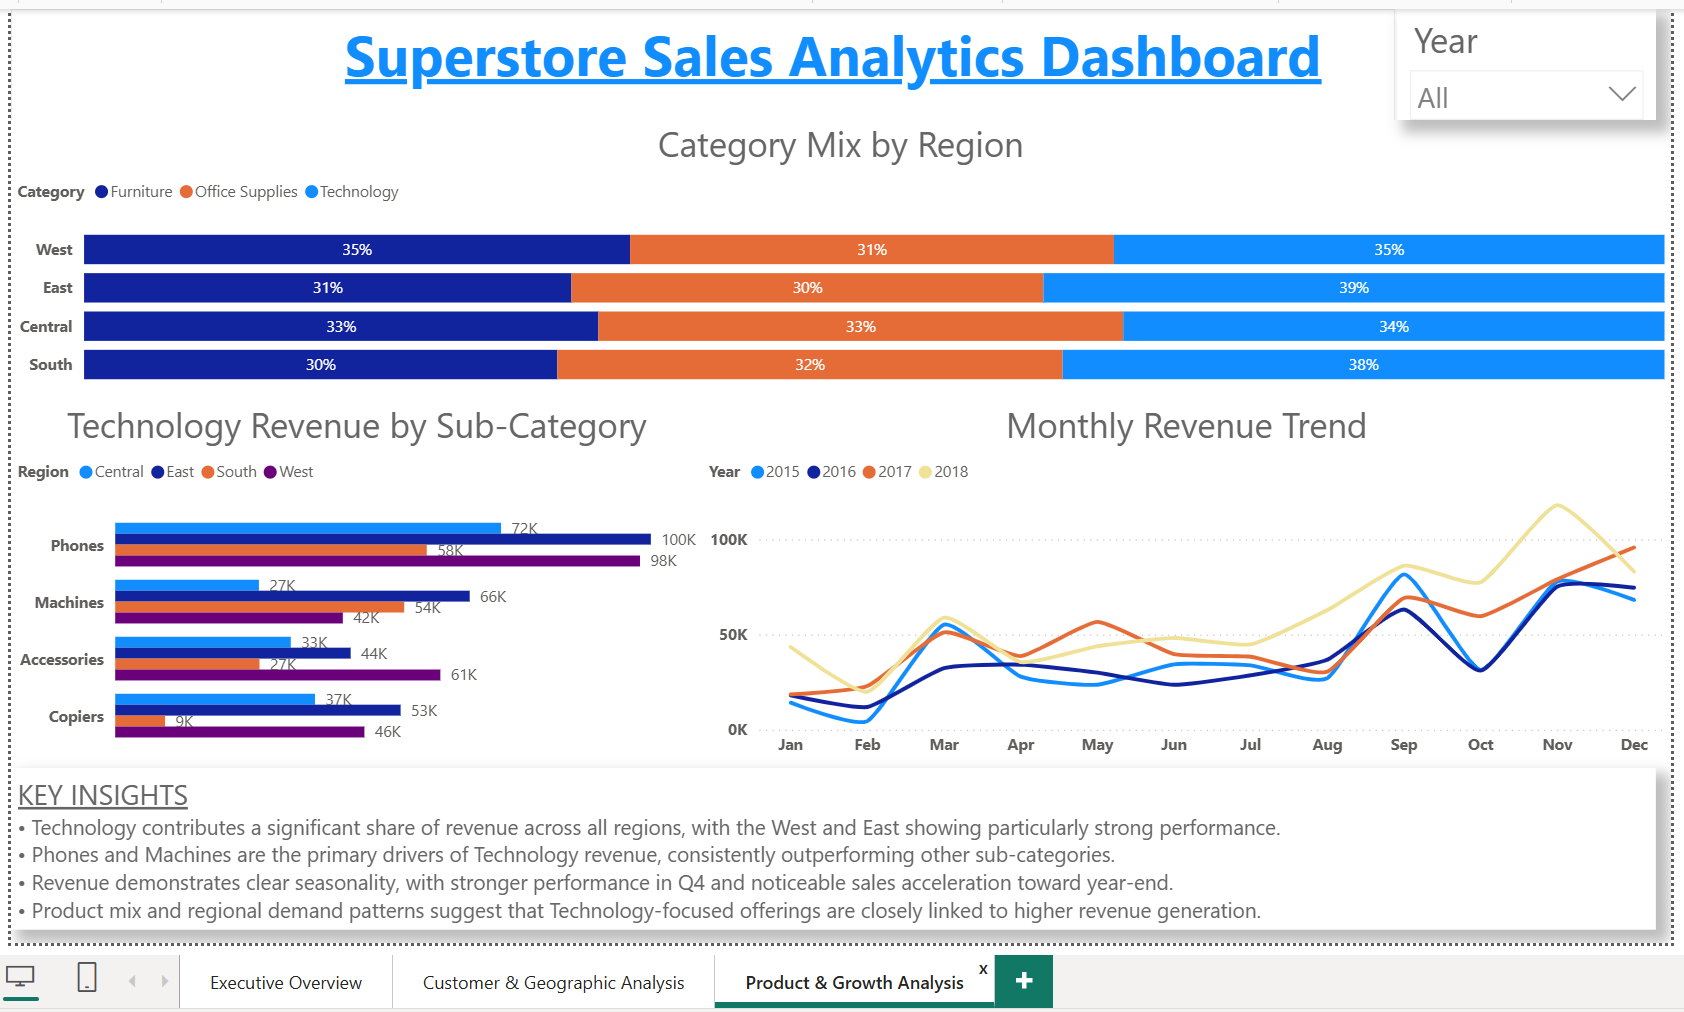

The page's visual inventory and layout, read from the dashboard file:
{"tool":"powerbi","page":{"name":"Product & Growth Analysis","canvas":[1280,720],"ordinal":2},"visuals":[{"type":"textbox","box":[0,0,1067.7,88.8],"z":0},{"type":"hundredPercentStackedBarChart","title":"Category Mix by Region","fields":{"Category":["train.Region"],"Y":["train.Total Revenue"],"Series":["train.Category"]},"box":[0,85,1279.4,217.3],"z":1000},{"type":"clusteredBarChart","title":"Technology Revenue by Sub-Category","fields":{"Category":["train.Sub-Category"],"Y":["train.Total Revenue"],"Series":["train.Region"]},"box":[0,302.4,532.9,283.5],"z":2000},{"type":"lineChart","title":"Monthly Revenue Trend","fields":{"Category":["train.Month"],"Y":["train.Total Revenue"],"Series":["train.Year"]},"box":[532.9,302.4,746.5,283.5],"z":3000},{"type":"textbox","box":[0,585,1268,124.7],"z":4000},{"type":"slicer","fields":{"Values":["train.Year"]},"box":[1068,0,200,85],"z":4001}]}

Visuals, with their boxes on the page's 1280x720 design canvas (x1, y1, x2, y2). These are canvas units, not pixel positions in the 1684x1012 screenshot, which may show the page scaled, cropped or inside an application window:
textbox: select_region(0, 0, 1068, 89)
"Category Mix by Region" hundredPercentStackedBarChart: select_region(0, 85, 1279, 302)
"Technology Revenue by Sub-Category" clusteredBarChart: select_region(0, 302, 533, 586)
"Monthly Revenue Trend" lineChart: select_region(533, 302, 1279, 586)
textbox: select_region(0, 585, 1268, 710)
slicer - train.Year: select_region(1068, 0, 1268, 85)
